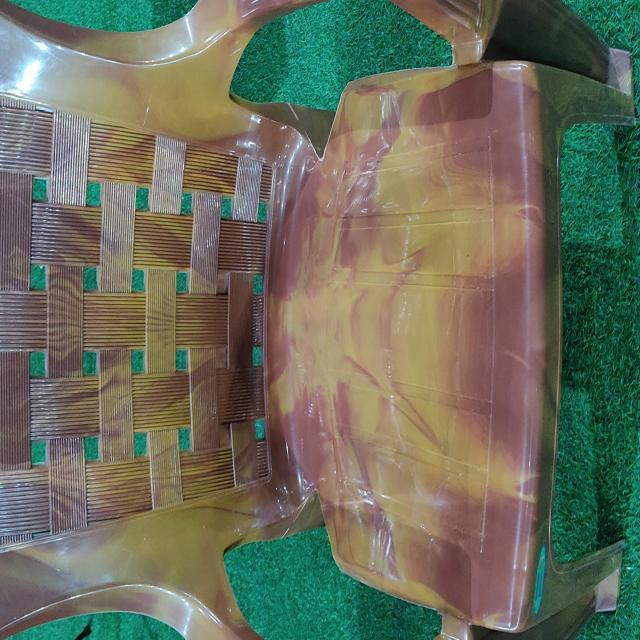Camer Stand: (2, 1, 634, 637)
